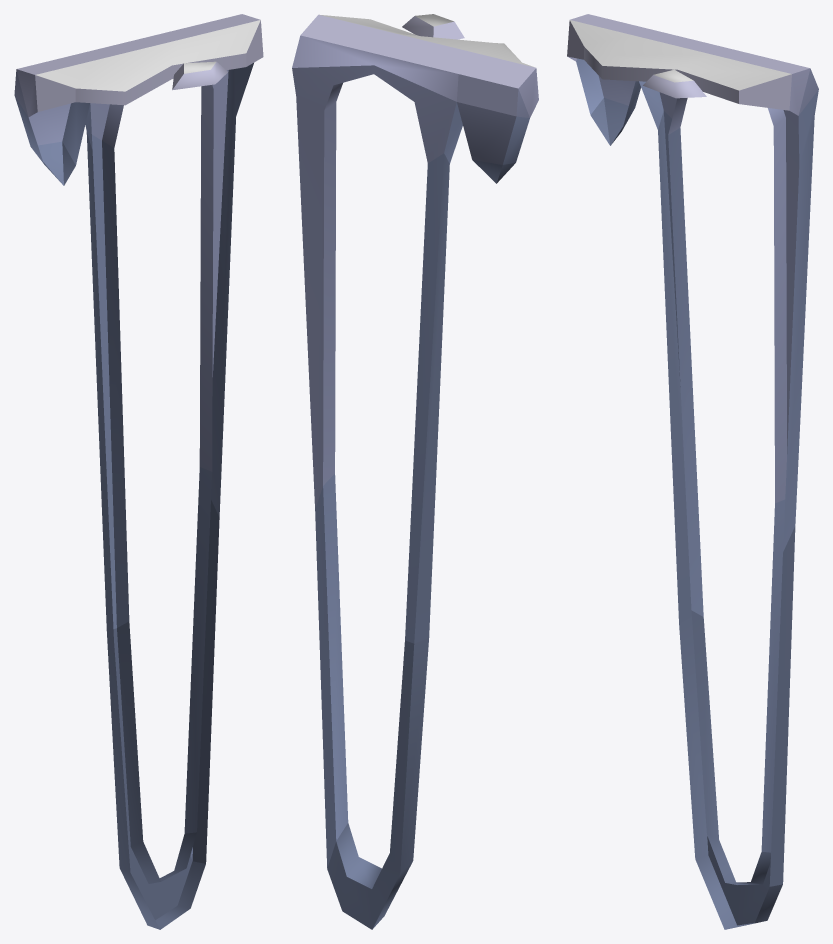
Rendered from Prop_Spiderweb_06.fbx.
3 views of the same model, side by side, from view 1: azimuth 30°, elevation 25°; view 2: azimuth 150°, elevation 25°; view 3: azimuth 330°, elevation 25° (orthographic). The views are drawn at different scales.
Visible parts, largest first — view 1: spiderweb06; view 2: spiderweb06; view 3: spiderweb06.
Part boxes in pixels (x1,y1,x2,y2): spiderweb06: (14, 14, 263, 929); spiderweb06: (292, 14, 538, 929); spiderweb06: (567, 14, 818, 929).
Bounding box in the file's own units: 91.43 × 351 × 46.21.
